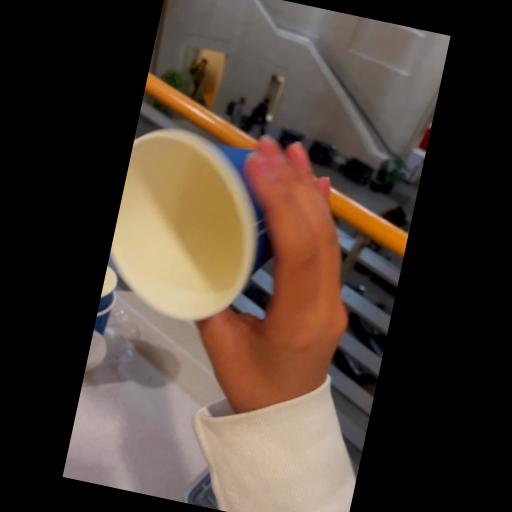lp_paper_cup: (100, 120, 294, 332)
